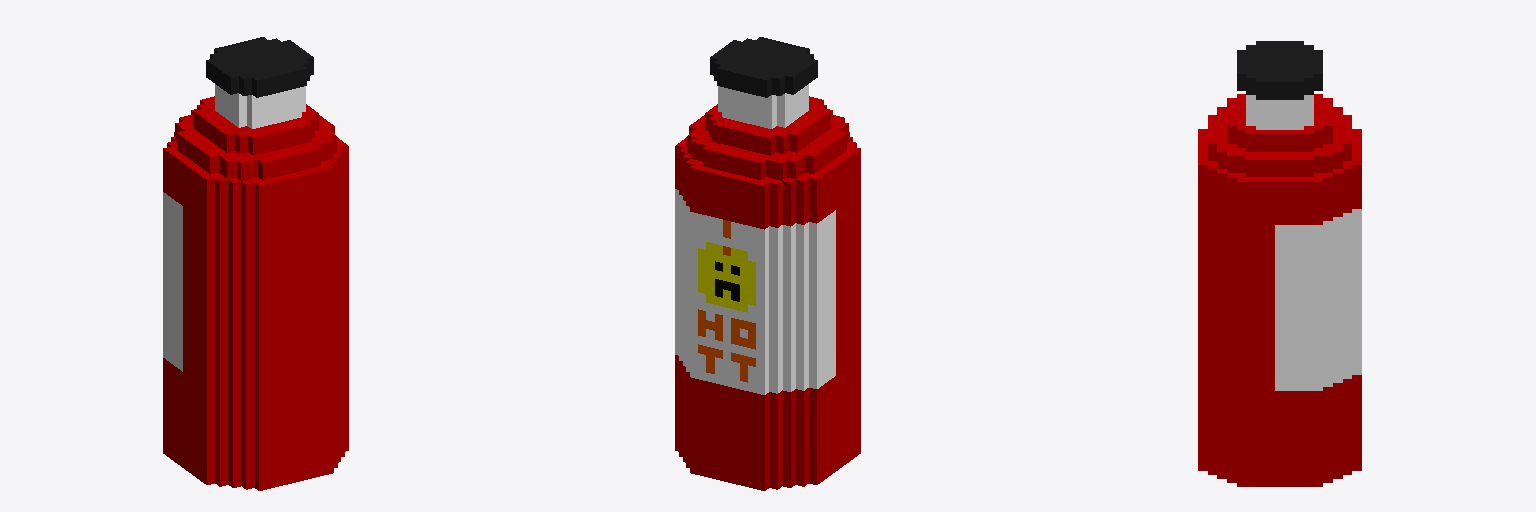
The picture shows the model from 3 angles: view 1: azimuth 30°, elevation 25°; view 2: azimuth 150°, elevation 25°; view 3: azimuth 270°, elevation 25°; orthographic projection.
Size of the model in its own units: 17 by 45 by 17.
Materials: 1 (1 with a texture image).